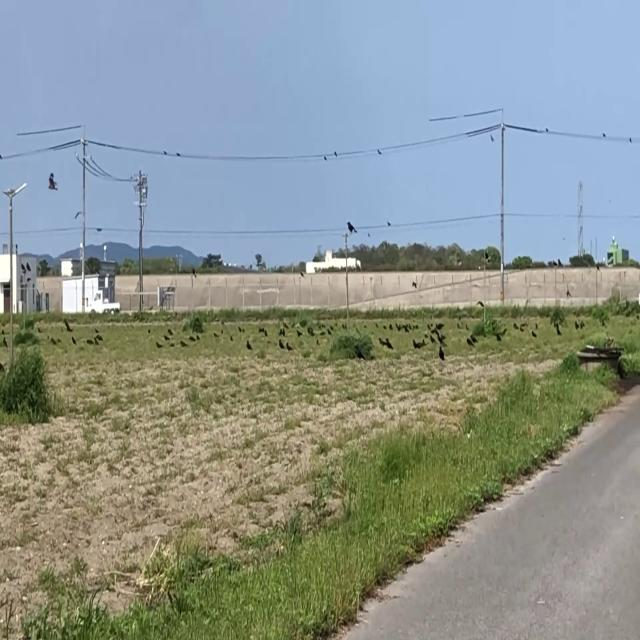bird: (47, 165, 57, 196), (346, 217, 356, 240), (439, 342, 445, 364), (246, 336, 251, 354), (412, 279, 418, 293), (413, 336, 418, 352), (164, 143, 168, 158), (388, 218, 392, 230)
